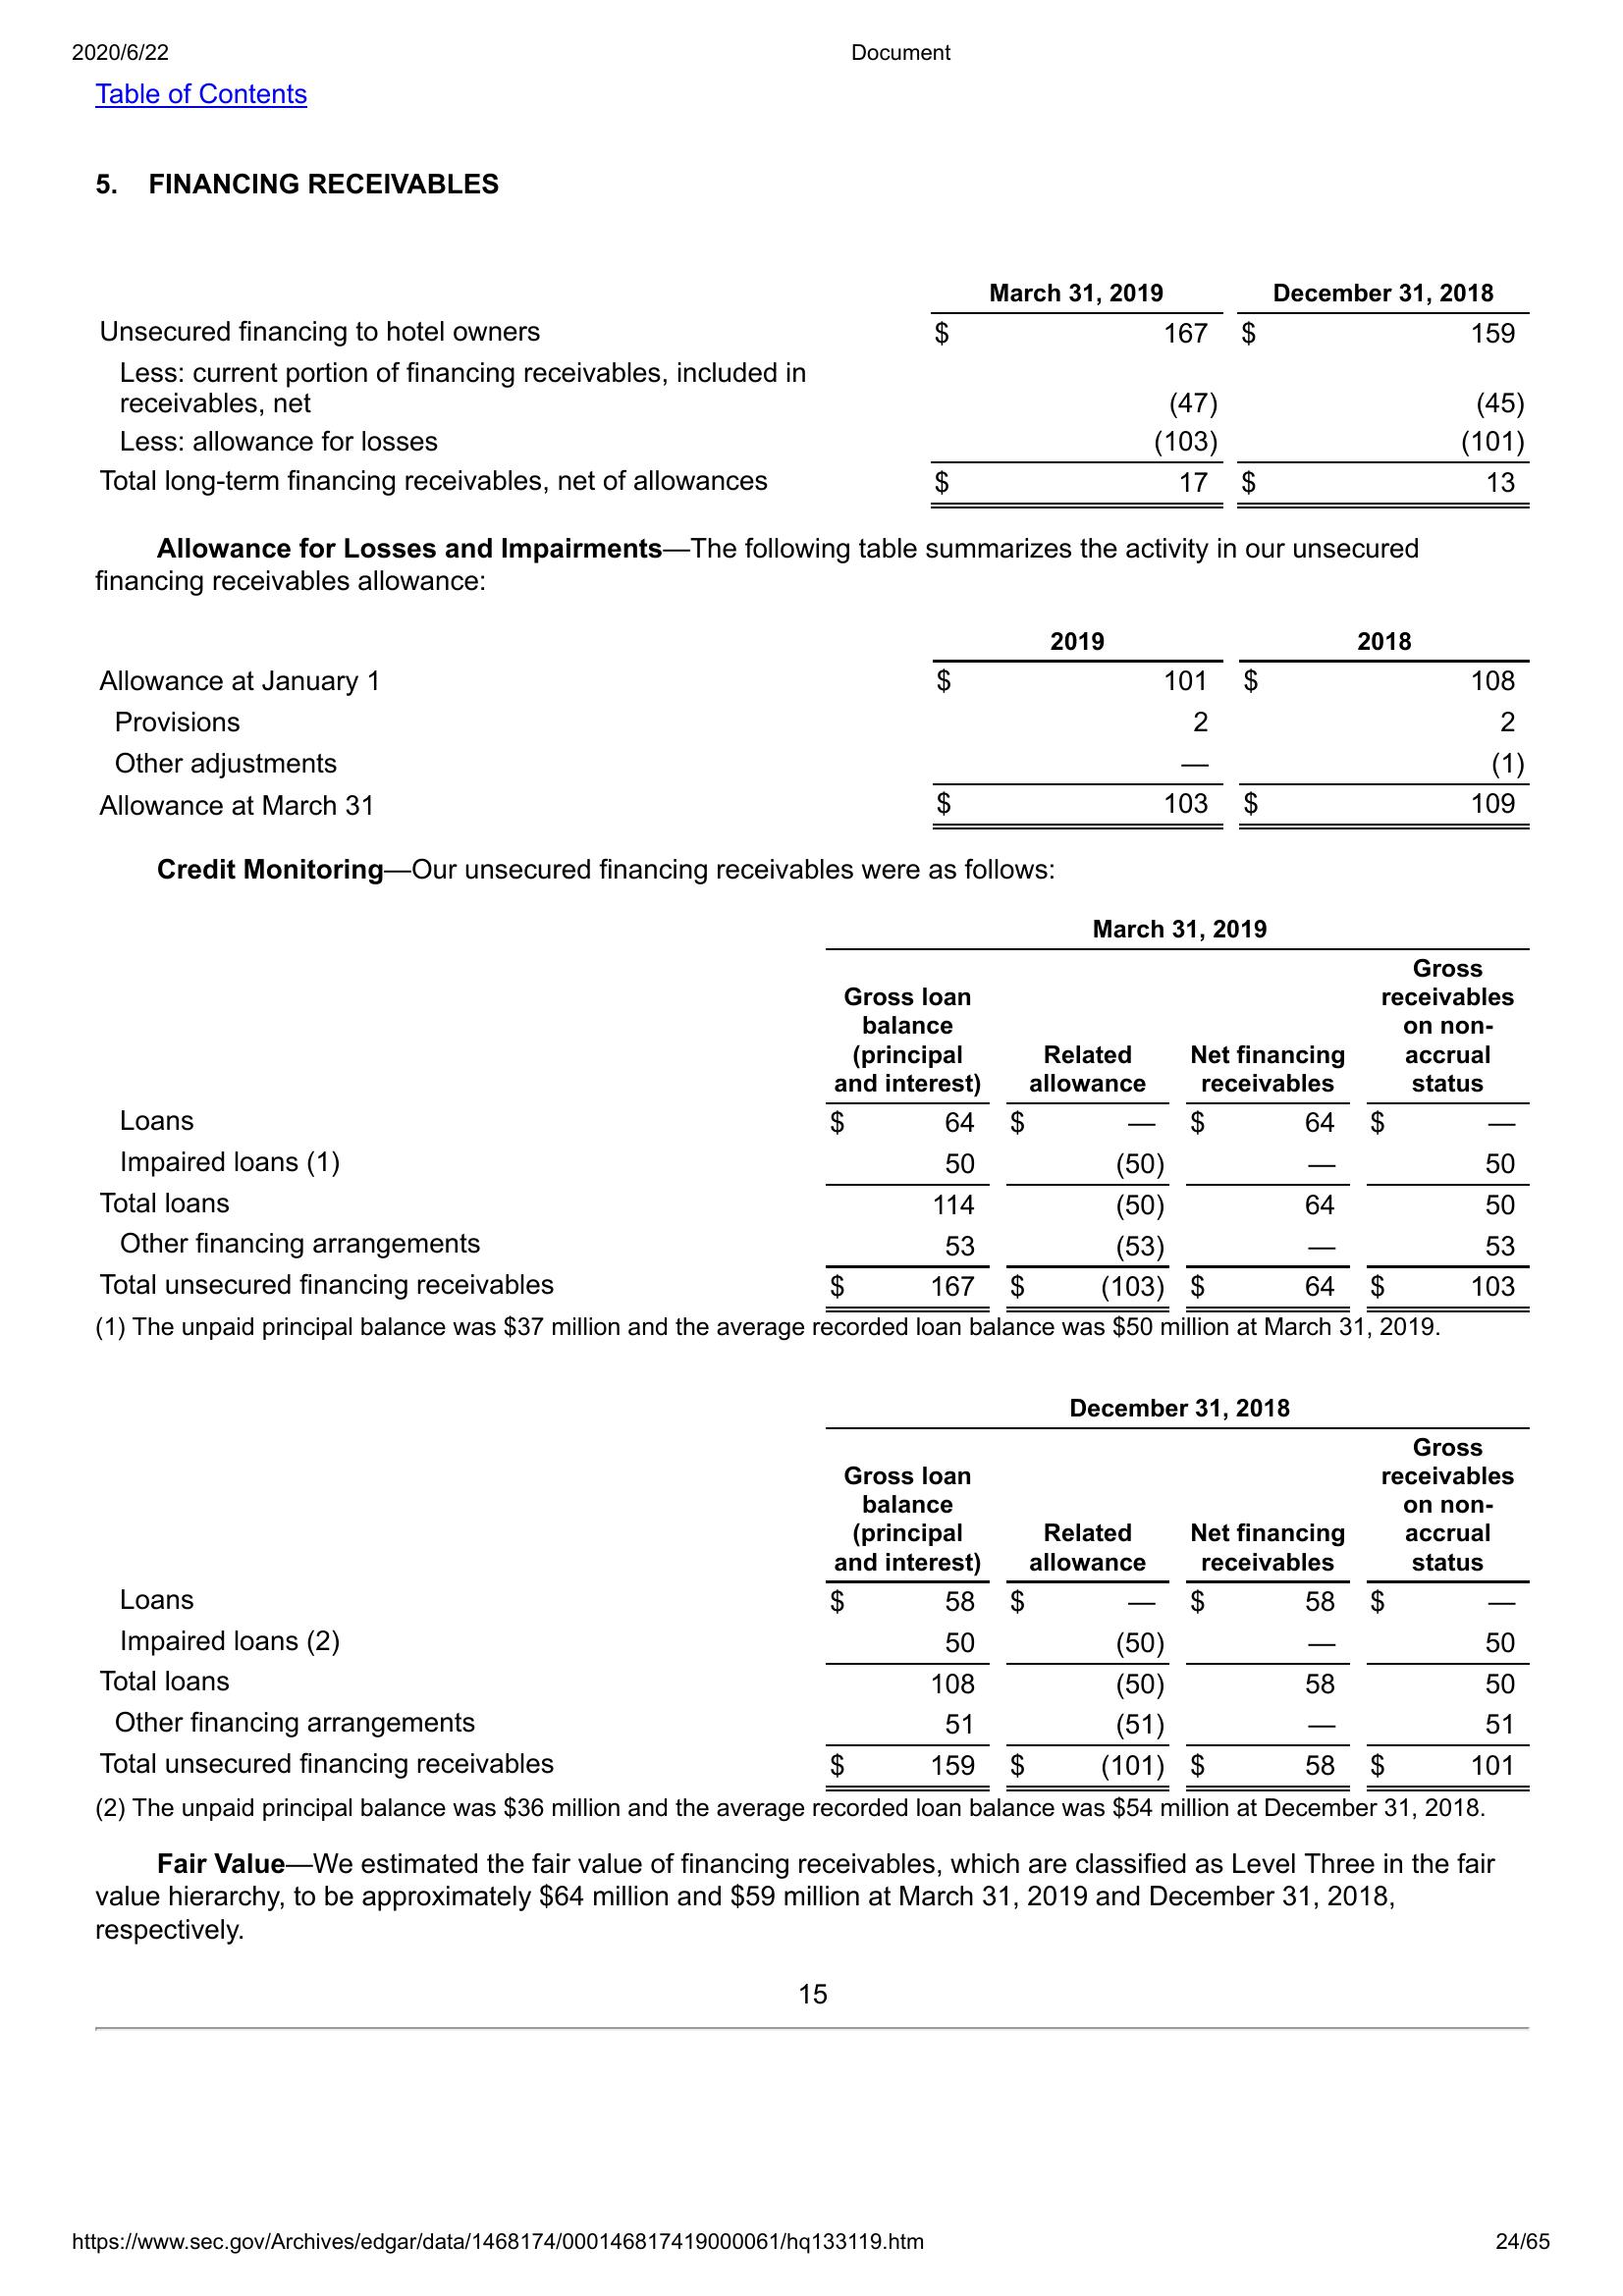table: (95, 270, 1540, 834), (88, 1381, 1542, 1803), (88, 908, 1535, 1317)
